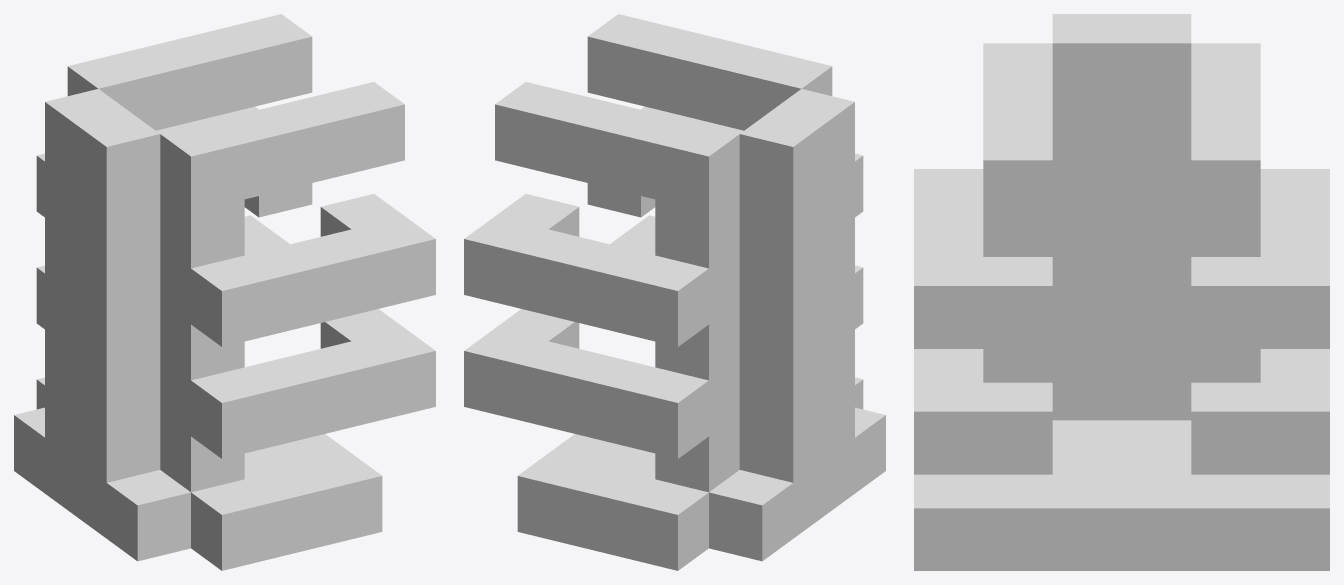
The model's file is skeleton_body.gltf.
3 views of the same model, side by side, from view 1: azimuth 30°, elevation 25°; view 2: azimuth 150°, elevation 25°; view 3: azimuth 270°, elevation 25° (orthographic). The views are drawn at different scales.
Visible parts, largest first — view 1: Layer.1; view 2: Layer.1; view 3: Layer.1.
Part boxes in pixels (left/top/right/bottom): Layer.1: left=14, top=14, right=435, bottom=570; Layer.1: left=464, top=14, right=885, bottom=570; Layer.1: left=914, top=14, right=1329, bottom=570.
Bounding box in the file's own units: 5 × 7 × 6.
1 material, 1 textured.
